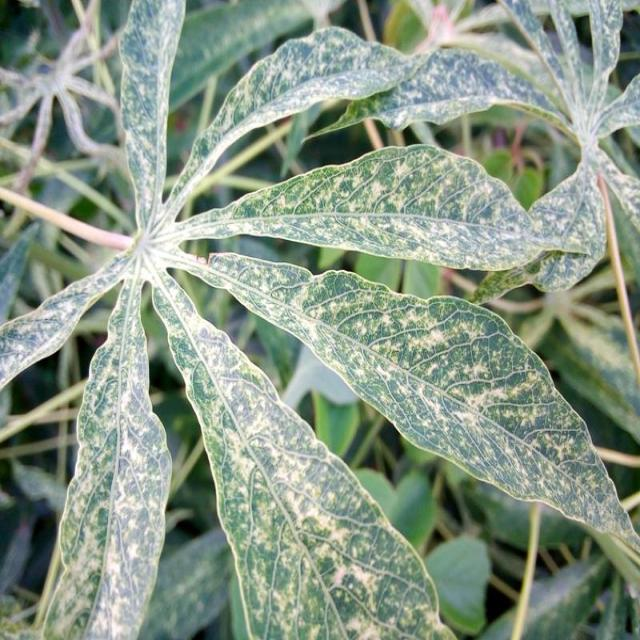cassava leaf: (0, 0, 638, 638), (202, 249, 638, 560), (148, 263, 458, 638)
